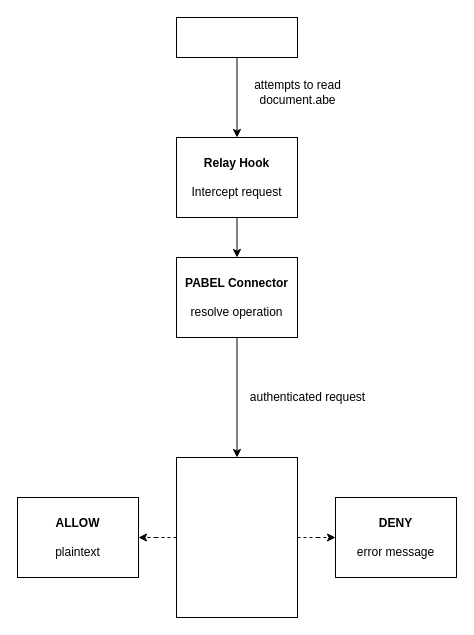
Image size: 474x635. Some labels were removed from this diagram. The shapes that lost their labels are listed below. From the top down, each one's centre as x and y in pixels, then its label:
pixel 237 37: AI Agent
pixel 237 537: PABEL MCP Server verify user verify agent evaluate policy decrypt
